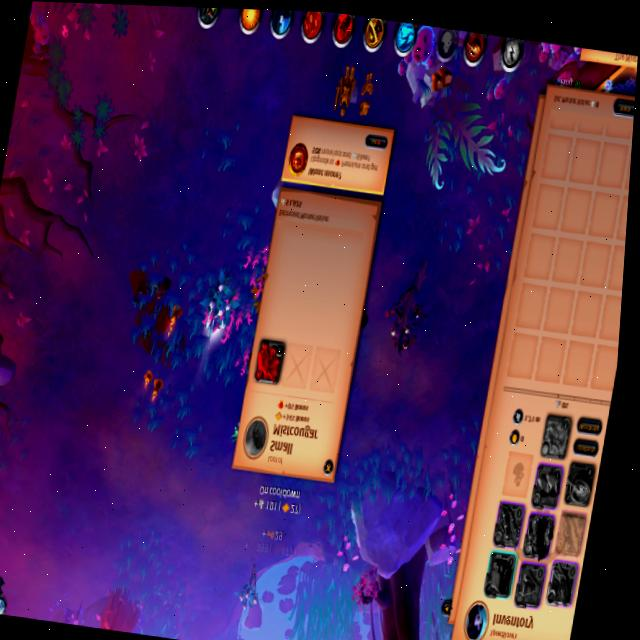hide: (372, 252, 442, 365), (196, 261, 244, 339), (232, 563, 269, 620)
tree: (89, 580, 150, 634)
